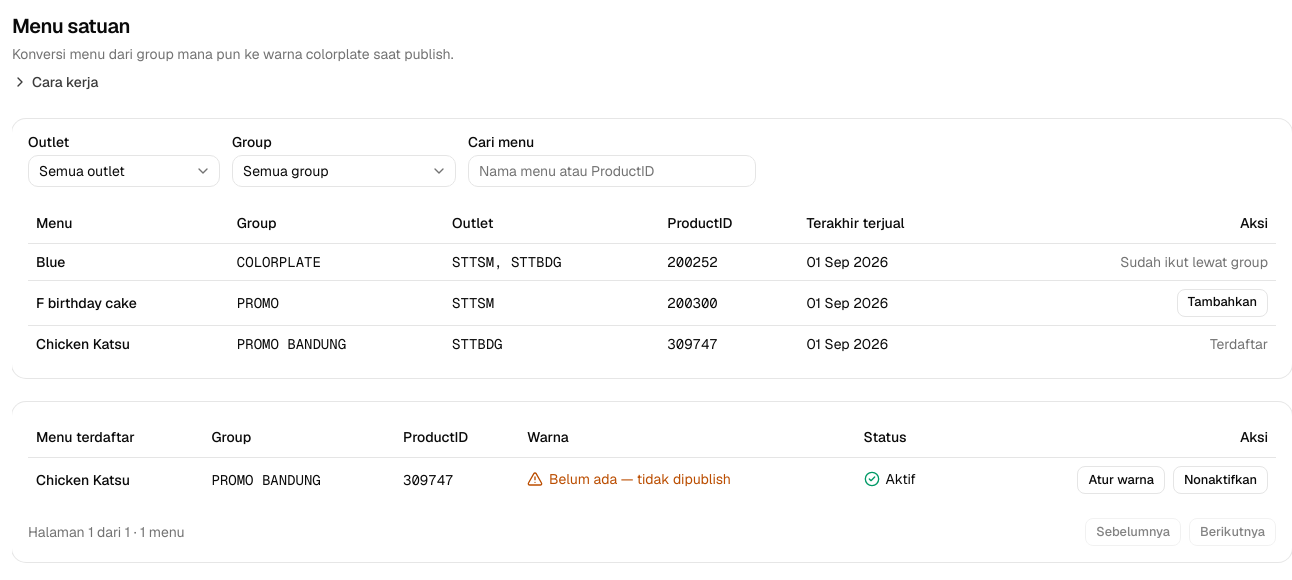
ProductMenusView — mapping per menu › filter outlet mempersempit daftar kandidat
The width and height of the screenshot is (1292, 580).
Expected: the text "F birthday cake" is shown, top-left (28, 280), bottom-right (229, 325)
Click the dropdown labelled "Semua outlet" at [124, 171], box top-left (28, 155), bottom-right (220, 187)
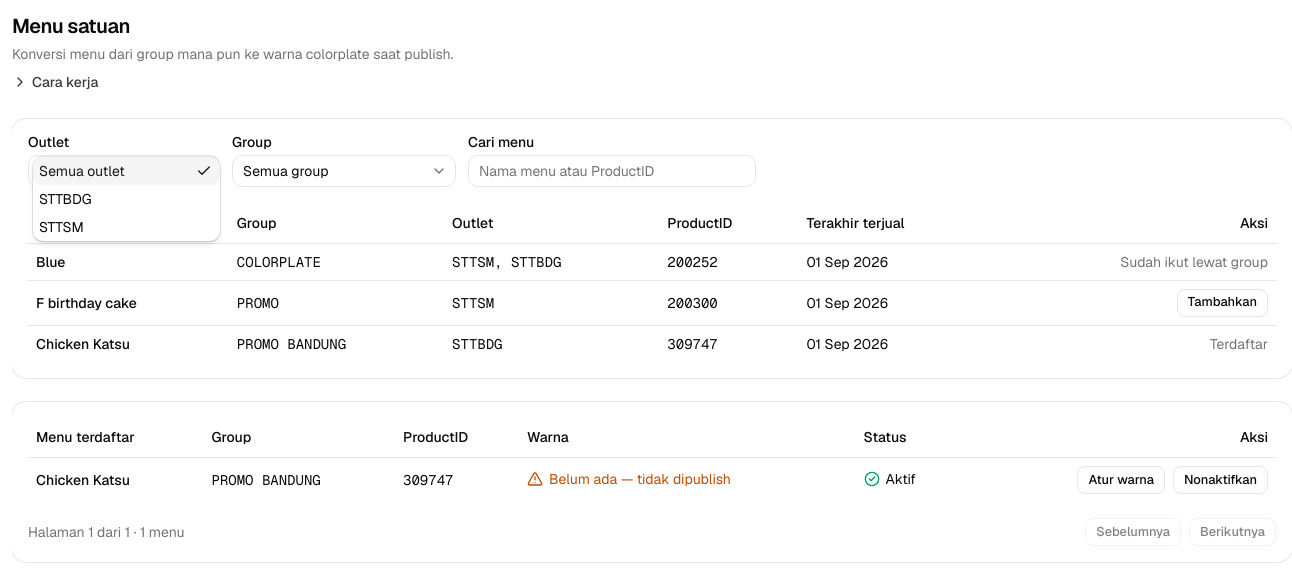
Click the option "STTBDG" at [65, 199], box top-left (39, 190), bottom-right (92, 208)
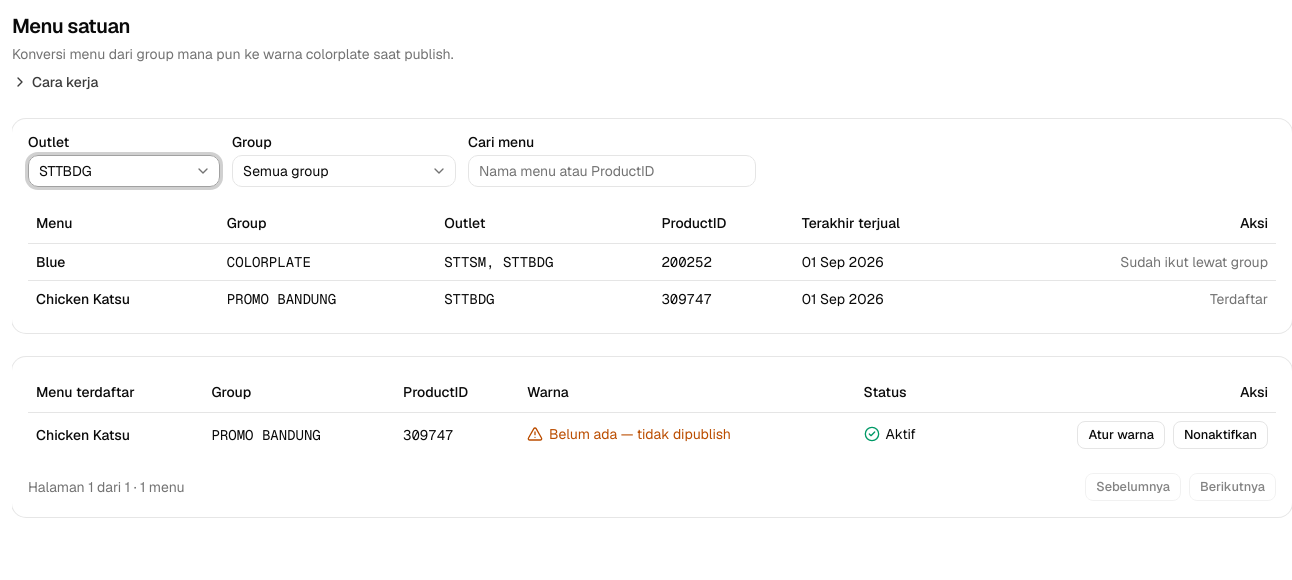
Expected: the text "Blue" is shown, top-left (28, 243), bottom-right (219, 280)
Now the text "F birthday cake" is gone
